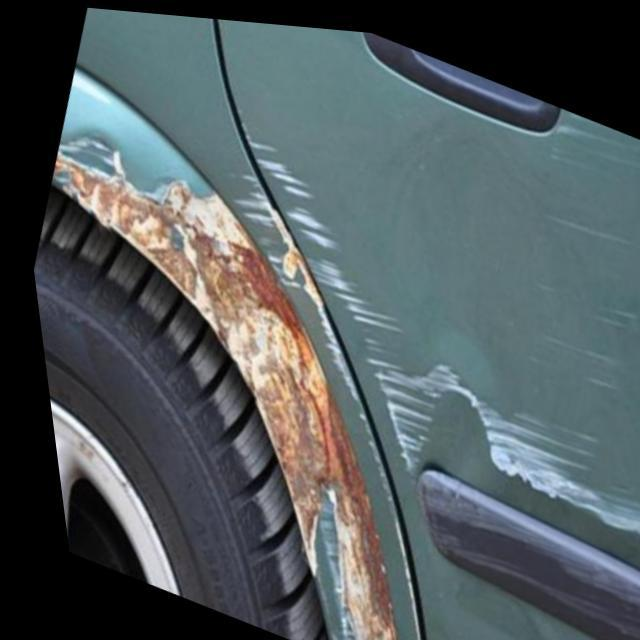rub: (47, 132, 381, 640), (232, 132, 640, 533)
scratch: (509, 313, 622, 387), (524, 257, 633, 326), (547, 98, 640, 167), (538, 192, 628, 242)
